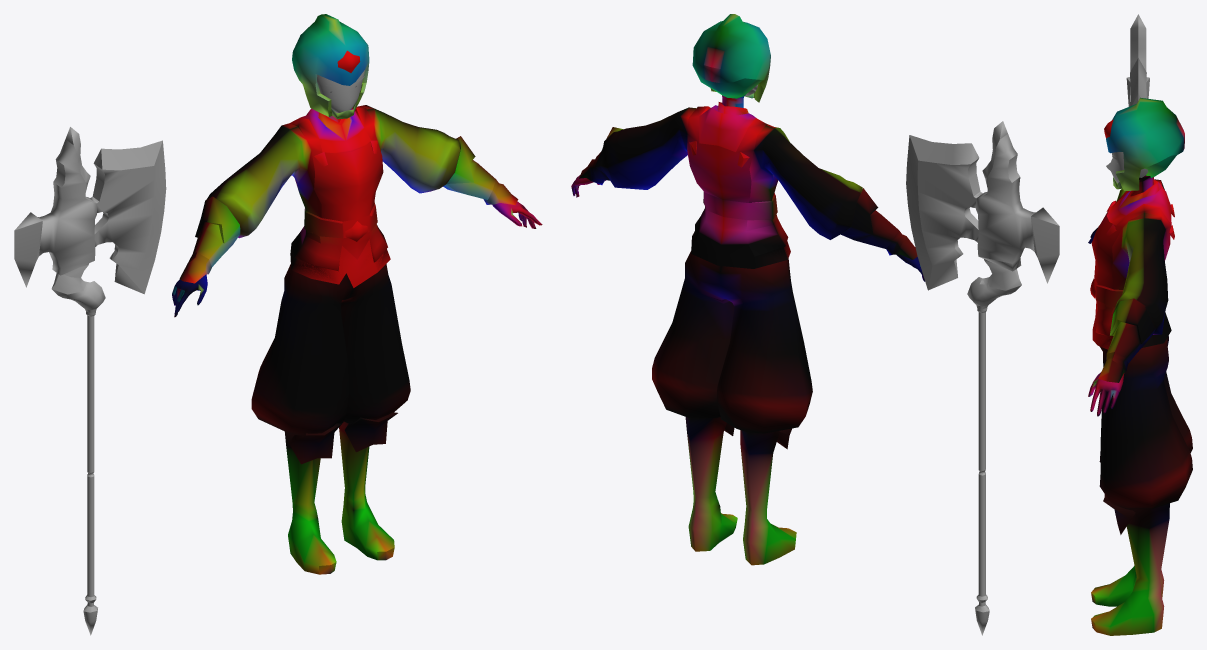
The model's file is m_010_axe_soldier_4_view.fbx.
3 views of the same model, side by side, from view 1: azimuth 30°, elevation 25°; view 2: azimuth 150°, elevation 25°; view 3: azimuth 270°, elevation 25° (orthographic). The views are drawn at different scales.
Parts seen in each view (by area): view 1: m_010_axe_soldier_4; view 2: m_010_axe_soldier_4; view 3: m_010_axe_soldier_4.
Part boxes in pixels (x1,y1,x2,y2): m_010_axe_soldier_4: (14, 14, 542, 635); m_010_axe_soldier_4: (571, 14, 1059, 635); m_010_axe_soldier_4: (1088, 14, 1192, 635).
Bounding box in the file's own units: 225 × 237 × 41.69.
